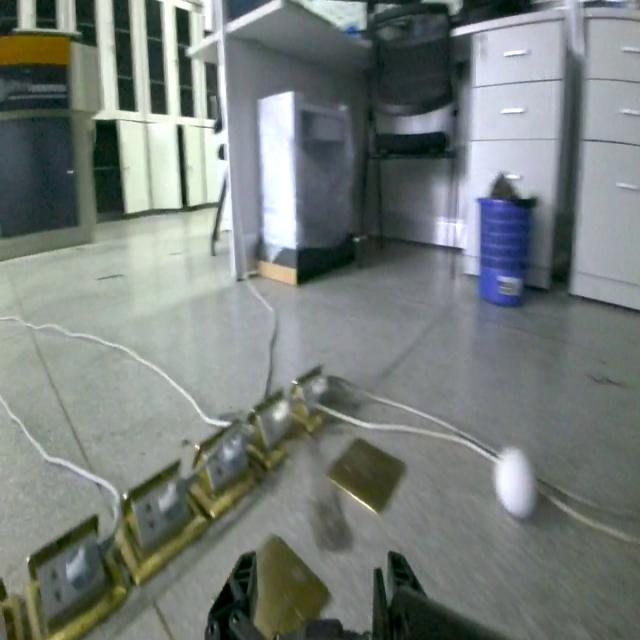ball1: (491, 448, 541, 520)
